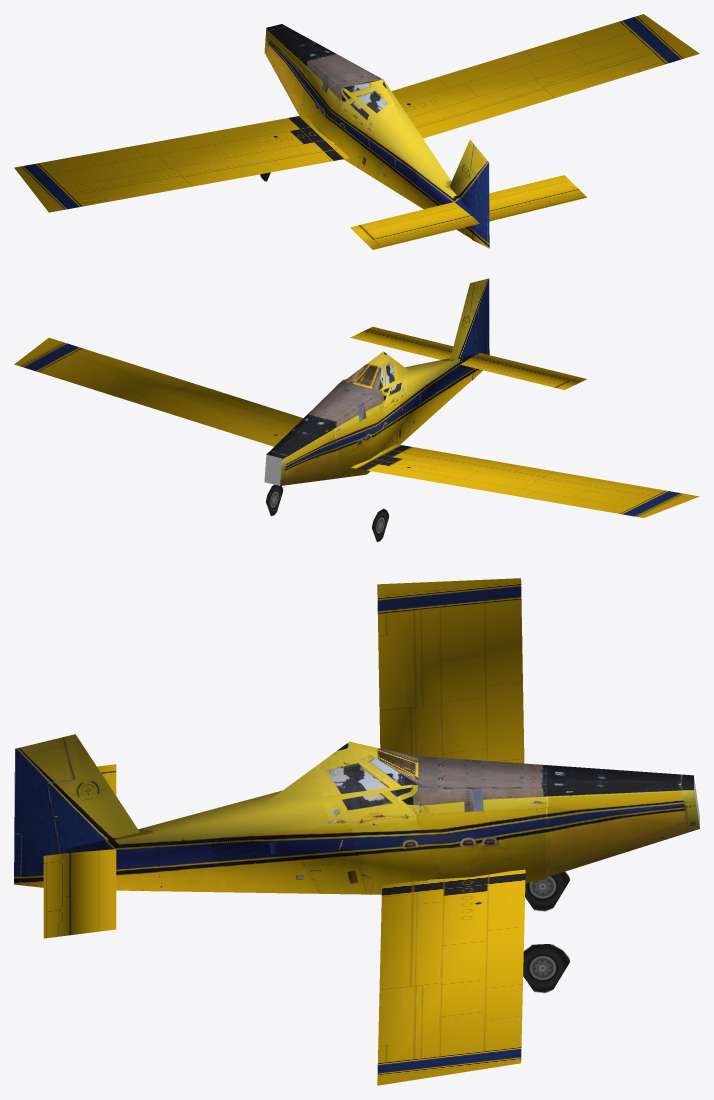
Rendered from Air-Tractor-AT-802-cbj_LOD05.gltf.
The picture shows the model from 3 angles, top to bottom: view 1: azimuth 30°, elevation 25°; view 2: azimuth 150°, elevation 25°; view 3: azimuth 270°, elevation 25°; orthographic projection. The views are drawn at different scales.
Visible parts, largest first — view 1: fuselage.005; view 2: fuselage.005; view 3: fuselage.005.
Part boxes in pixels (<box>): fuselage.005: <box>14,14,699,249</box>; fuselage.005: <box>14,278,699,541</box>; fuselage.005: <box>14,578,699,1085</box>.
Bounding box in the file's own units: 18.07 × 3.81 × 10.45.
